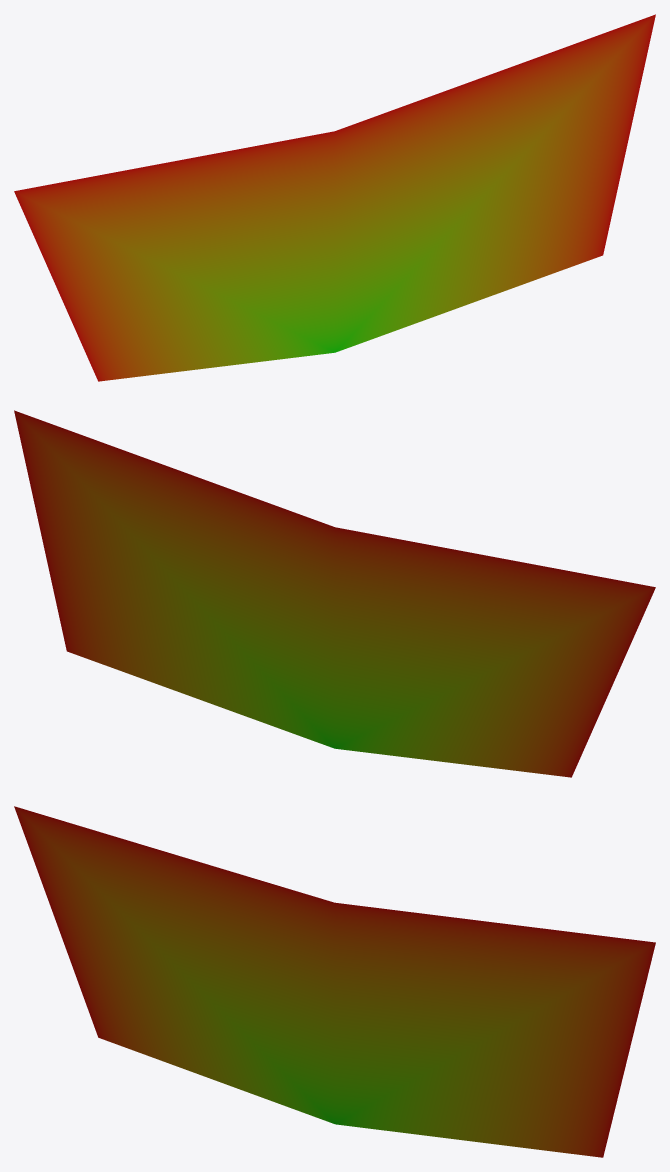
The model's file is Var11_LOD3.fbx.
The picture shows the model from 3 angles, top to bottom: view 1: azimuth 30°, elevation 25°; view 2: azimuth 150°, elevation 25°; view 3: azimuth 330°, elevation 25°; orthographic projection.
Visible parts, largest first — view 1: _mgno_Var11_LOD3; view 2: _mgno_Var11_LOD3; view 3: _mgno_Var11_LOD3.
Part boxes in pixels (x1=…): _mgno_Var11_LOD3: x1=14, y1=14, x2=655, y2=381; _mgno_Var11_LOD3: x1=14, y1=410, x2=655, y2=777; _mgno_Var11_LOD3: x1=14, y1=806, x2=655, y2=1157.
Size of the model in its own units: 26.19 by 10.14 by 0.
